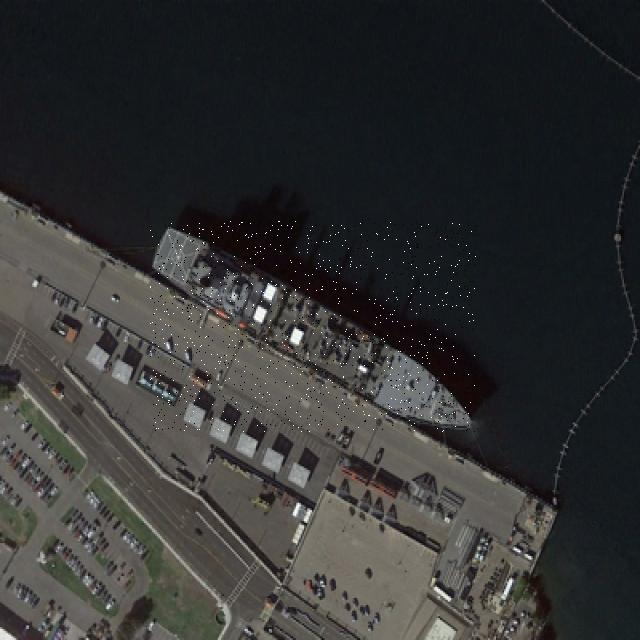boat: (150, 221, 476, 432)
